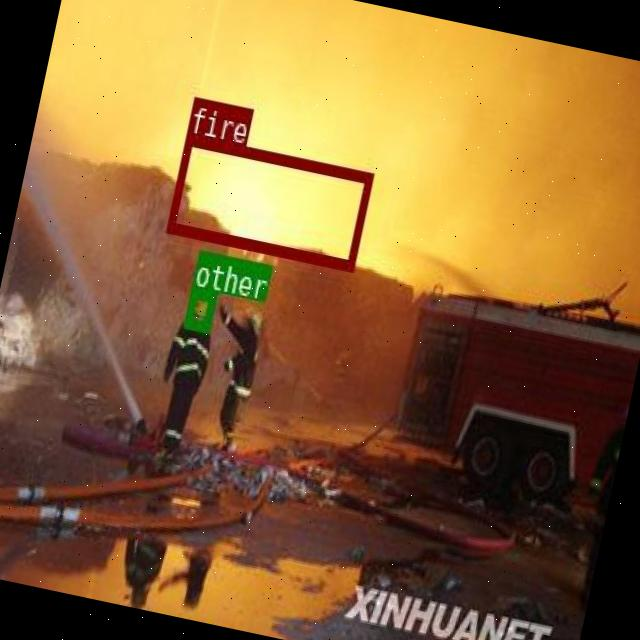fire: (165, 131, 372, 268)
